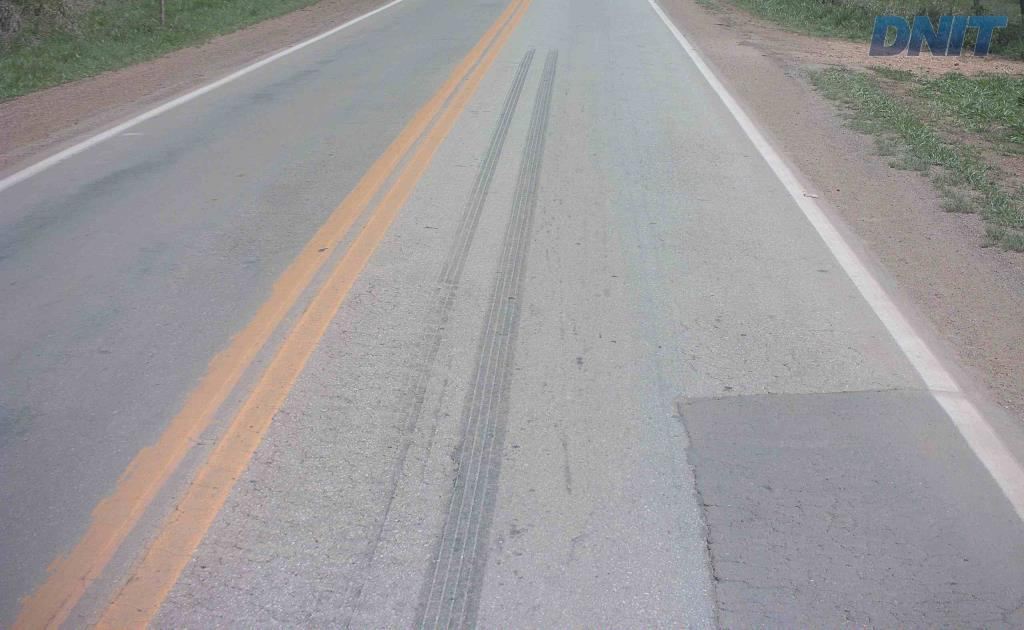crack: (686, 459, 730, 595), (975, 595, 1023, 629)
